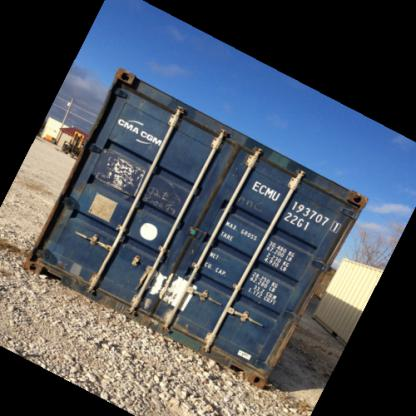Damage: (140, 266, 194, 318), (98, 148, 146, 196), (148, 174, 194, 216), (211, 141, 247, 187), (30, 242, 69, 268), (314, 179, 348, 201)
